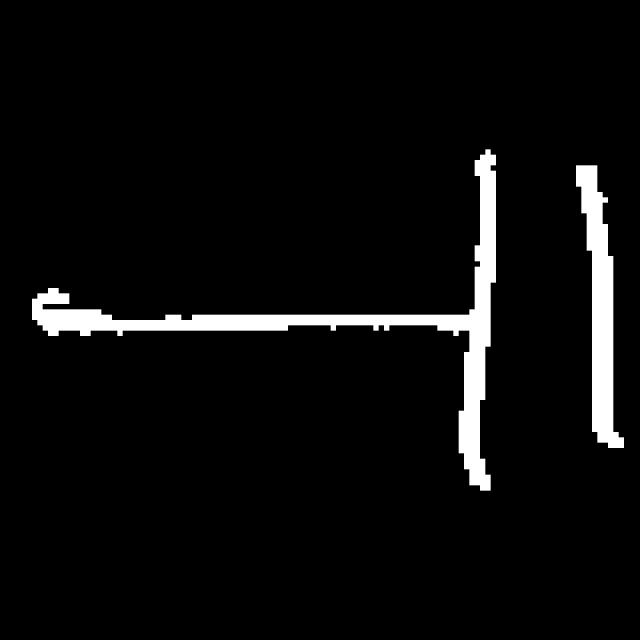capacitor: (432, 133, 640, 496)
